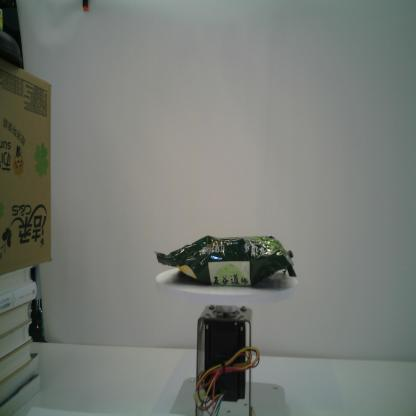Instant Noodles: (151, 230, 299, 289)
